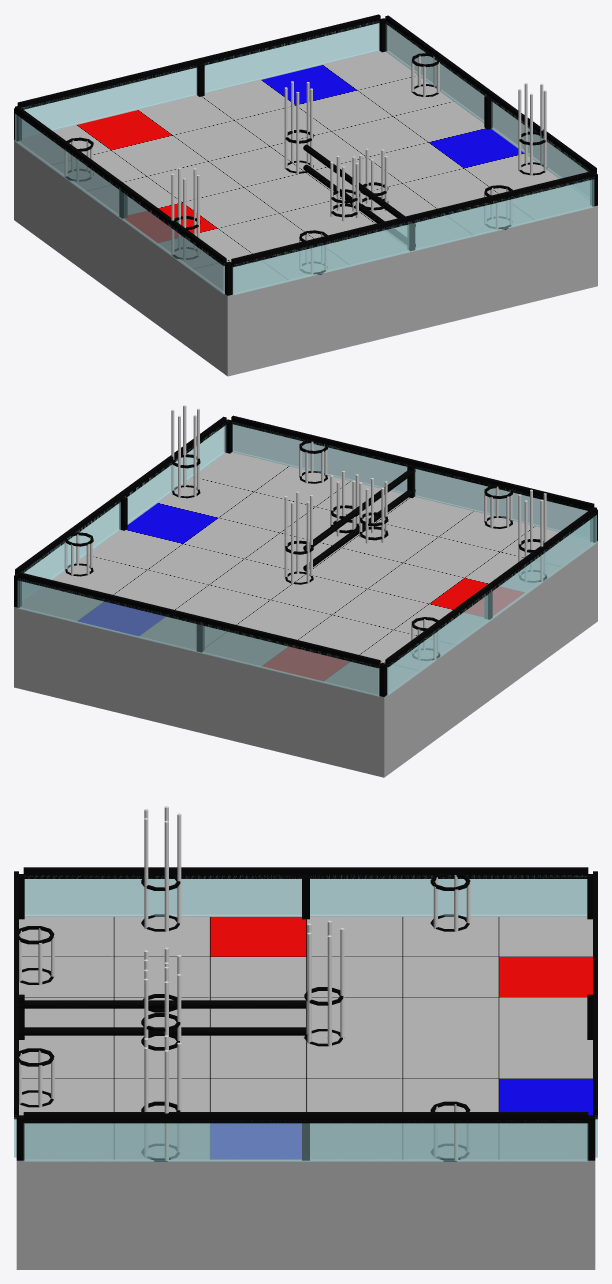
File: field_new.FBX
3 views of the same model, one above another, from view 1: azimuth 30°, elevation 25°; view 2: azimuth 150°, elevation 25°; view 3: azimuth 270°, elevation 25° (orthographic). The views are drawn at different scales.
Parts seen in each view (by area): view 1: Box001, Box004, Box005, Box003, Box002, Box014, Box016, Box017, Box015, Cylinder051, Cylinder052; view 2: Box001, Box005, Box004, Box003, Box002, Box016, Box014, Box017, Box015, Cylinder051, Cylinder052; view 3: Box001, Box002, Box003, Box015, Box017, Cylinder051, Cylinder052, Box014, Box016.
Boxes of the visible parts, box(x1,y1,x2,y2) form: Box001: box(14, 50, 597, 376); Box004: box(232, 178, 594, 295); Box005: box(21, 22, 379, 137); Box003: box(15, 114, 224, 294); Box002: box(385, 22, 589, 200); Box014: box(231, 171, 594, 266); Box016: box(17, 14, 380, 109); Box017: box(15, 106, 226, 265); Box015: box(385, 15, 596, 173); Cylinder051: box(303, 144, 415, 228); Cylinder052: box(303, 164, 415, 248); Box001: box(14, 451, 597, 777); Box005: box(17, 579, 379, 696); Box004: box(232, 422, 589, 538); Box003: box(387, 515, 596, 695); Box002: box(22, 425, 226, 601); Box016: box(17, 572, 380, 668); Box014: box(231, 415, 594, 510); Box017: box(385, 507, 596, 667); Box015: box(15, 416, 226, 574); Cylinder051: box(303, 469, 415, 550); Cylinder052: box(303, 489, 415, 571); Box001: box(16, 916, 595, 1269); Box002: box(23, 1123, 588, 1161); Box003: box(24, 875, 587, 916); Box015: box(23, 1112, 588, 1123); Box017: box(23, 867, 588, 878); Cylinder051: box(19, 1000, 305, 1008); Cylinder052: box(19, 1027, 305, 1035); Box014: box(14, 871, 18, 1119); Box016: box(593, 871, 597, 1119).
Size of the model in its own units: 3.69 by 1.52 by 3.69.
